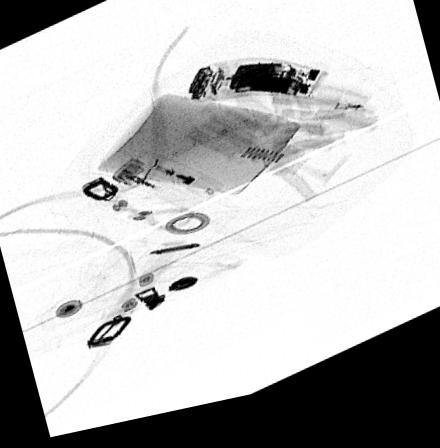Lighter: (110, 162, 222, 221)
